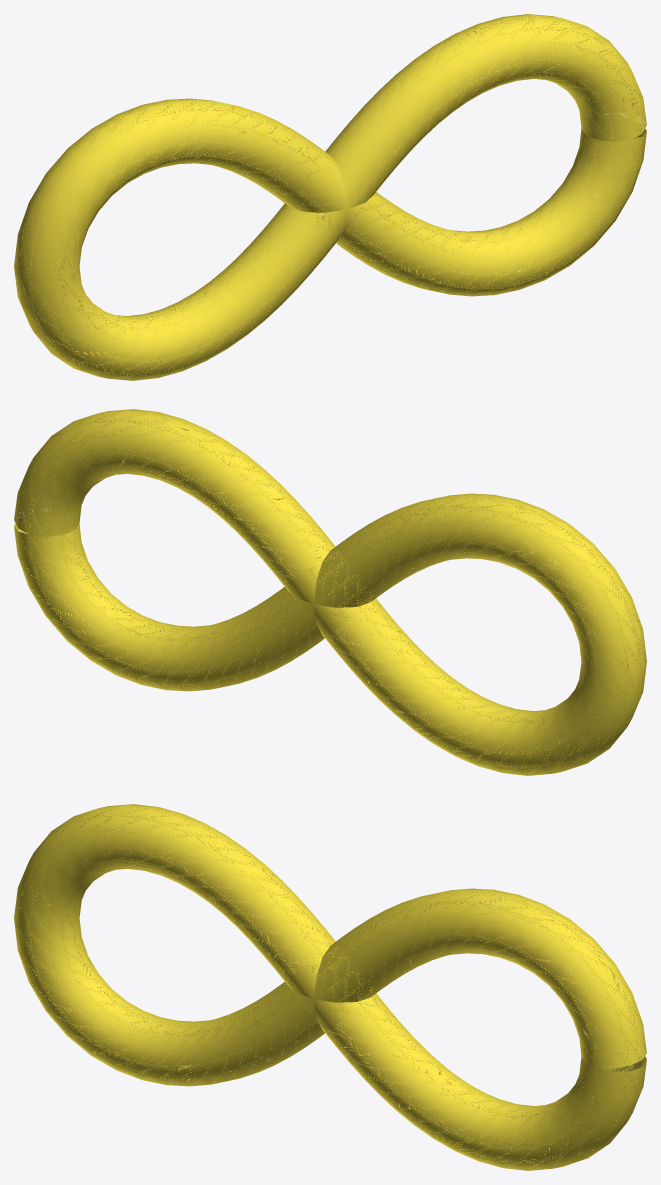
File: lemniscata3.glb
3 views of the same model, one above another, from view 1: azimuth 30°, elevation 25°; view 2: azimuth 150°, elevation 25°; view 3: azimuth 330°, elevation 25° (orthographic).
Parts seen in each view (by area): view 1: MyParametricCurve; view 2: MyParametricCurve; view 3: MyParametricCurve.
Part boxes in pixels (x1,y1,x2,y2): MyParametricCurve: [14, 14, 646, 380]; MyParametricCurve: [14, 409, 646, 775]; MyParametricCurve: [14, 804, 646, 1170].
Size of the model in its own units: 4.4 by 1.81 by 0.4.
